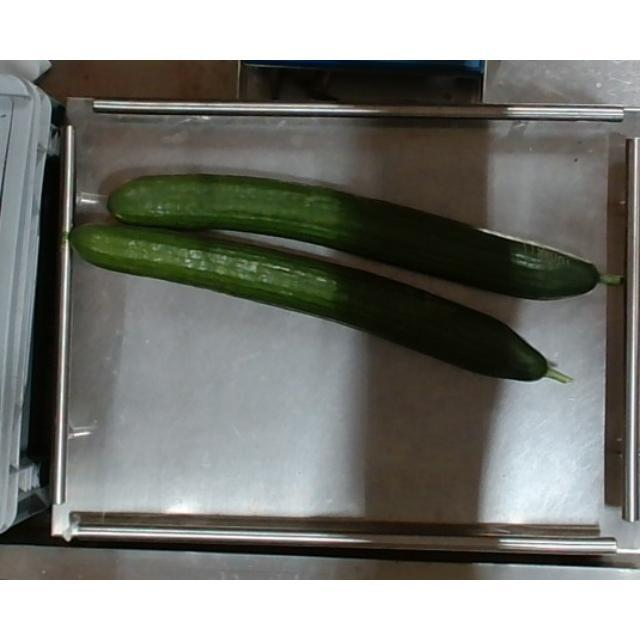cucumber: (67, 220, 578, 386), (109, 172, 623, 296)
